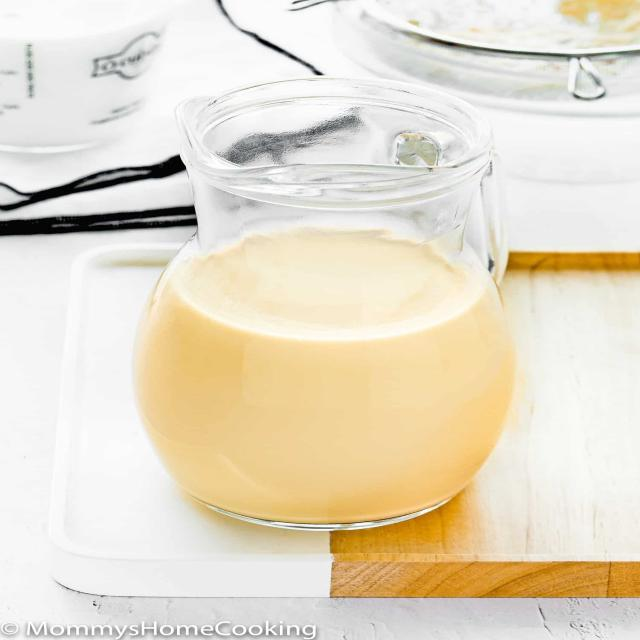Milk carton/jug: (142, 227, 519, 529)
